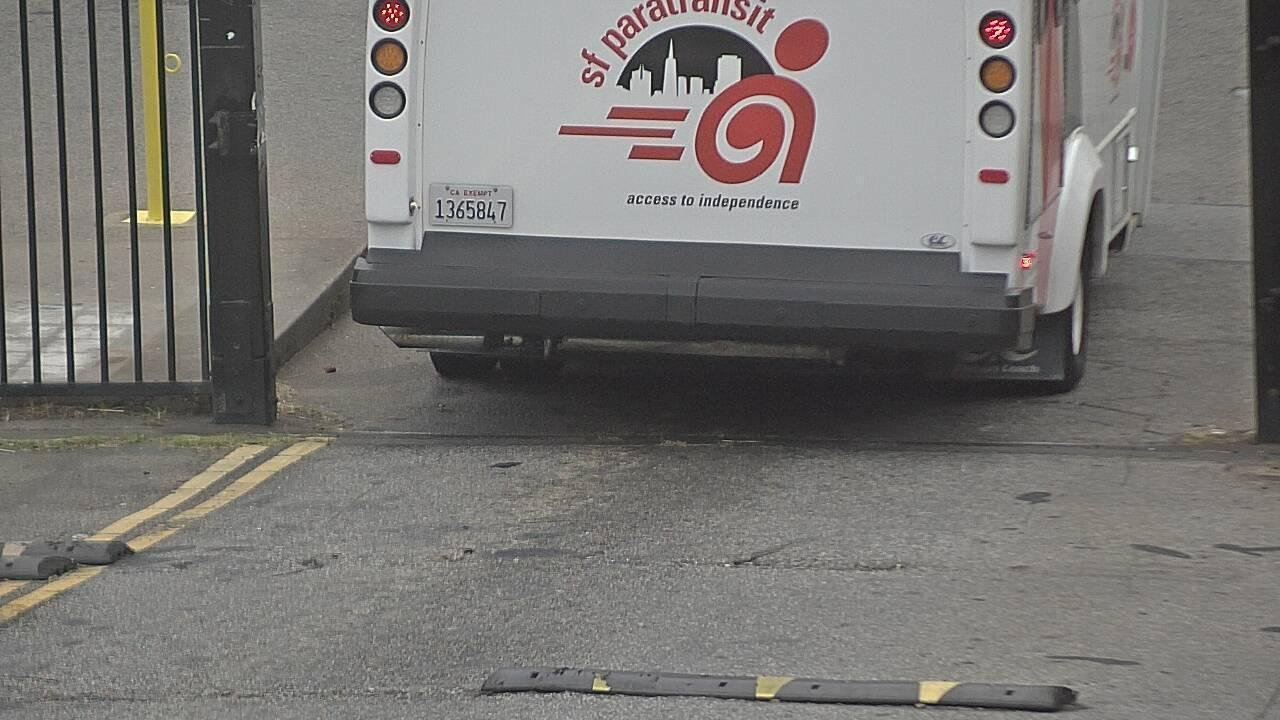placa de veiculo: (424, 175, 526, 243)
